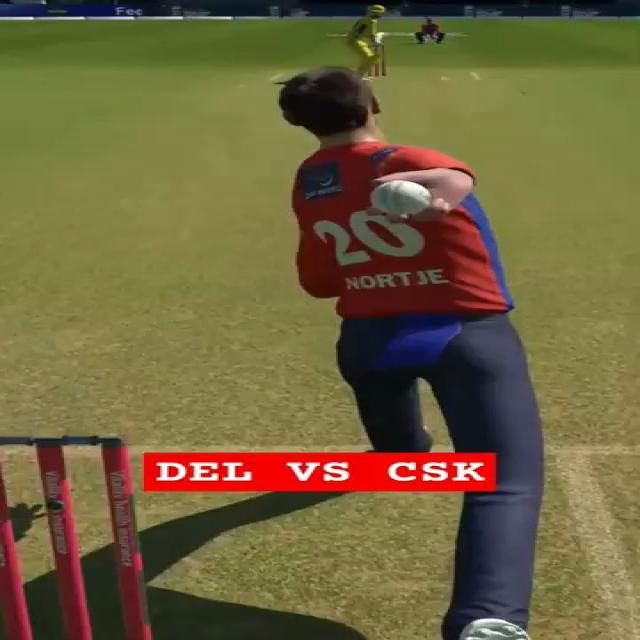ball: (372, 180, 430, 214)
